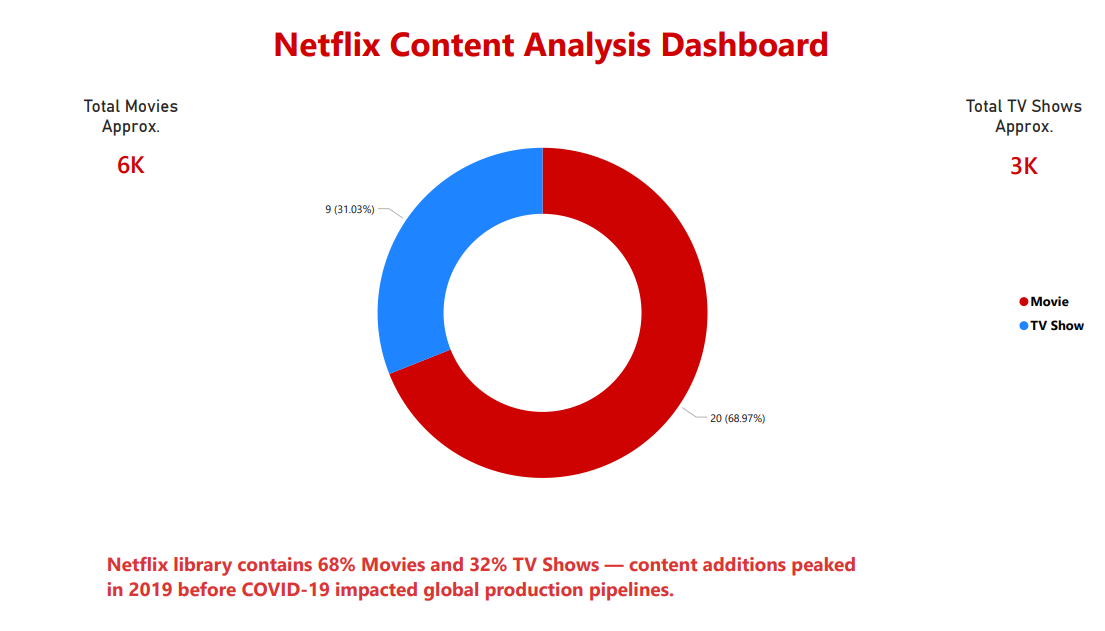

The page's visual inventory and layout, read from the dashboard file:
{"tool":"powerbi","page":{"name":"Overview","canvas":[1280,720],"ordinal":0},"visuals":[{"type":"donutChart","fields":{"Category":["netflix_titles.type"],"Y":["CountNonNull(netflix_titles.show_id)"]},"box":[91.2,103.8,1162.5,487.5],"z":0},{"type":"textbox","box":[240.9,14.4,799.3,76.5],"z":1000},{"type":"cardVisual","title":"Total Movies Approx.","fields":{"Data":["netflix_titles.Total Movies"]},"box":[91.2,103.8,153.8,106.2],"z":2000},{"type":"cardVisual","title":"Total TV Shows Approx.","fields":{"Data":["netflix_titles.Total TV Shows"]},"box":[1098.8,103.8,145,108.8],"z":3000},{"type":"textbox","box":[135.6,608.8,854.1,80.8],"z":4000}]}

Visuals, with their boxes in screenshot pixels (x1, y1, x2, y2), scaled from the page's 1280x720 canvas onto the 1105x631 screenshot:
donutChart - netflix_titles.type x CountNonNull(netflix_titles.show_id): detection(79, 91, 1082, 518)
textbox: detection(208, 13, 898, 80)
"Total Movies Approx." cardVisual: detection(79, 91, 212, 184)
"Total TV Shows Approx." cardVisual: detection(949, 91, 1074, 186)
textbox: detection(117, 534, 854, 604)
